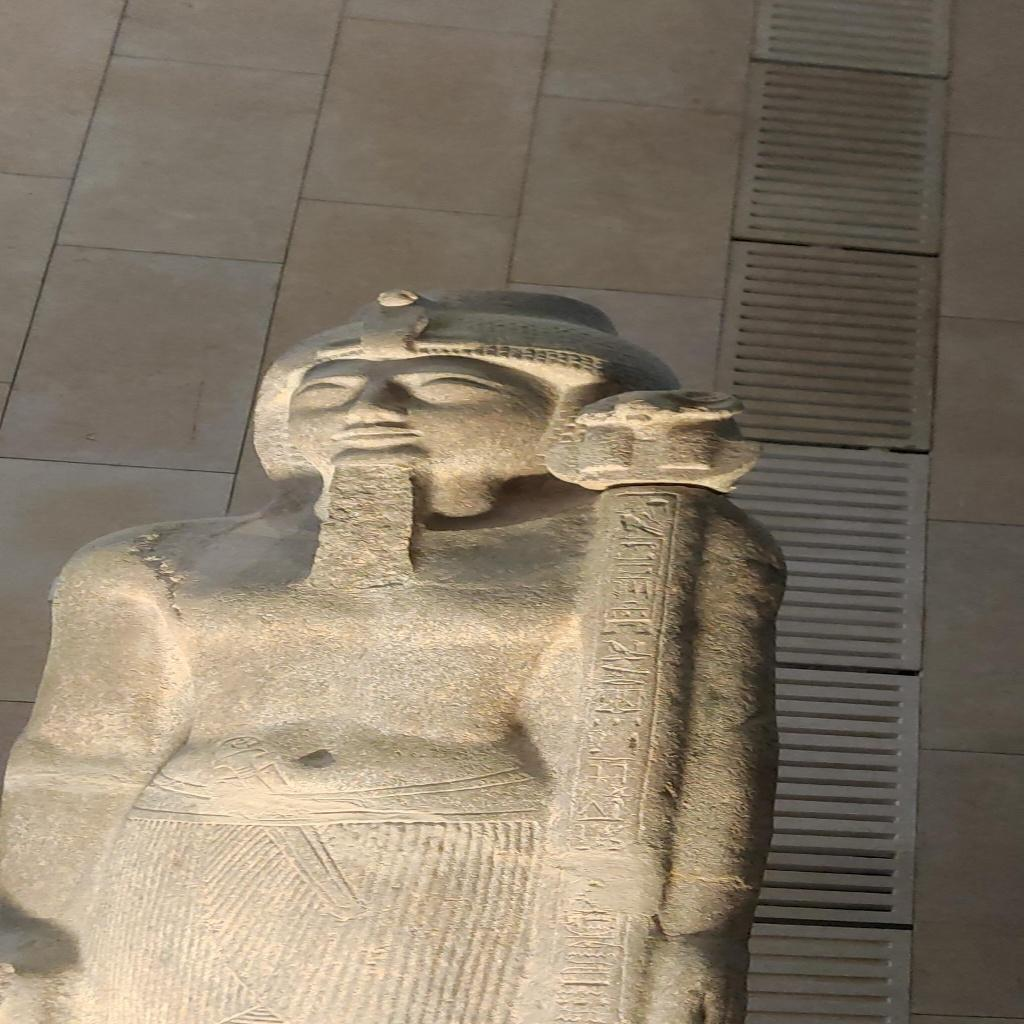Statue of Ramesses III as standard Bearer: (8, 284, 798, 1022)
